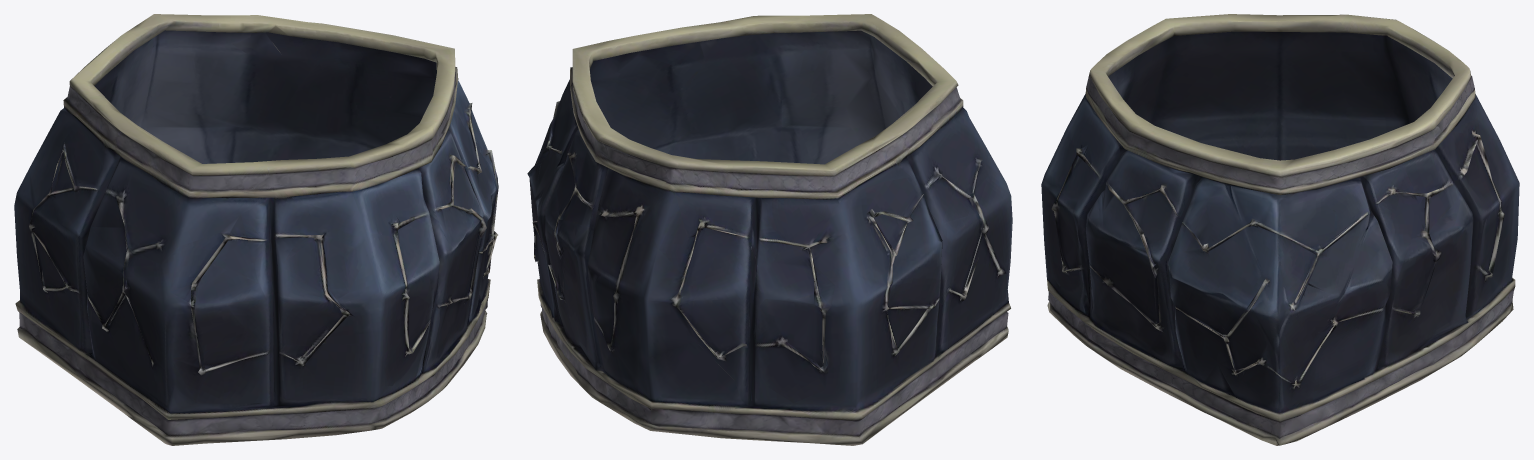
Rendered from boss_pelvis.glb.
3 renders of one model, left to right at view 1: azimuth 30°, elevation 25°; view 2: azimuth 150°, elevation 25°; view 3: azimuth 270°, elevation 25°, orthographic. The views are drawn at different scales.
Parts seen in each view (by area): view 1: tripo_node_2cac04bd-a439-49db-aeb0-85ac23b076cb; view 2: tripo_node_2cac04bd-a439-49db-aeb0-85ac23b076cb; view 3: tripo_node_2cac04bd-a439-49db-aeb0-85ac23b076cb.
Part boxes in pixels (x1,y1,x2,y2): tripo_node_2cac04bd-a439-49db-aeb0-85ac23b076cb: [14, 14, 498, 445]; tripo_node_2cac04bd-a439-49db-aeb0-85ac23b076cb: [527, 14, 1012, 445]; tripo_node_2cac04bd-a439-49db-aeb0-85ac23b076cb: [1041, 14, 1519, 445].
Size of the model in its own units: 0.9519 by 0.6264 by 1.
Materials: 1 (1 with a texture image).
